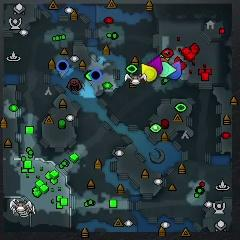p1: (169, 60, 183, 81)
p1Clone: (57, 60, 69, 73), (90, 70, 102, 82)
p2: (160, 62, 176, 76)
p3: (148, 56, 163, 76)
p4: (141, 63, 157, 82)
p5: (161, 57, 167, 62)
x2: (166, 57, 170, 60)
